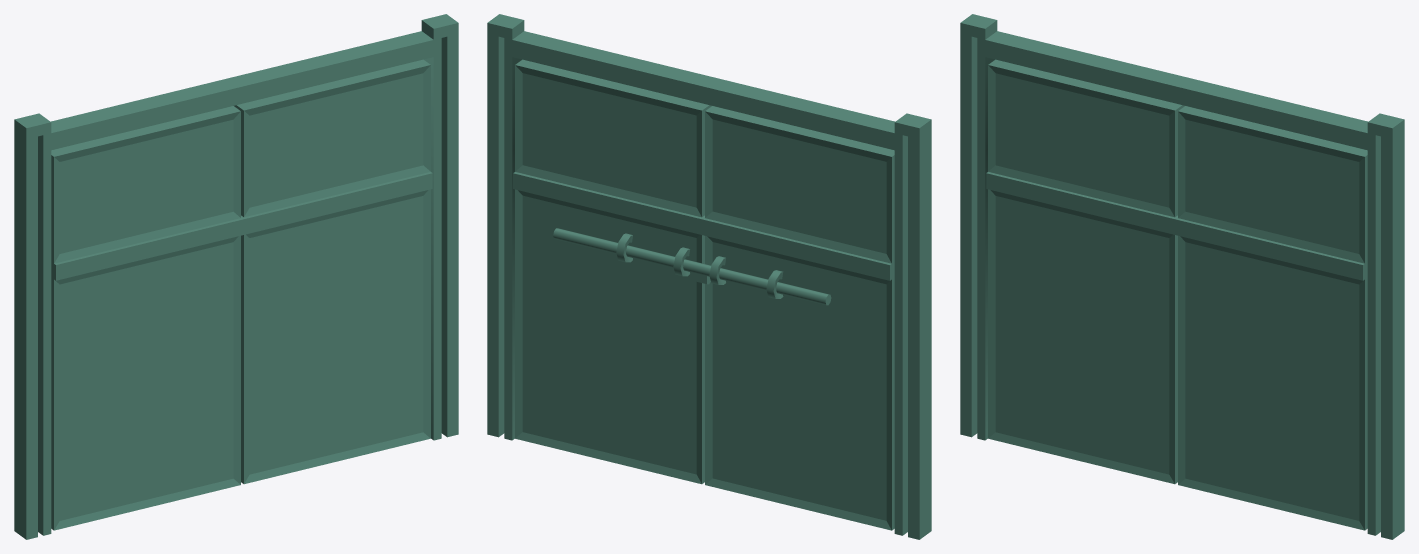
File: BigDoor.fbx
3 renders of one model, left to right at view 1: azimuth 30°, elevation 25°; view 2: azimuth 150°, elevation 25°; view 3: azimuth 330°, elevation 25°, orthographic.
Visible parts, largest first — view 1: Object008; view 2: Object008; view 3: Object008.
Part boxes in pixels (bbox=[...]): Object008: bbox=[14, 14, 458, 539]; Object008: bbox=[487, 14, 931, 539]; Object008: bbox=[960, 14, 1404, 539].
Bounding box in the file's own units: 1116 × 1017 × 100.
